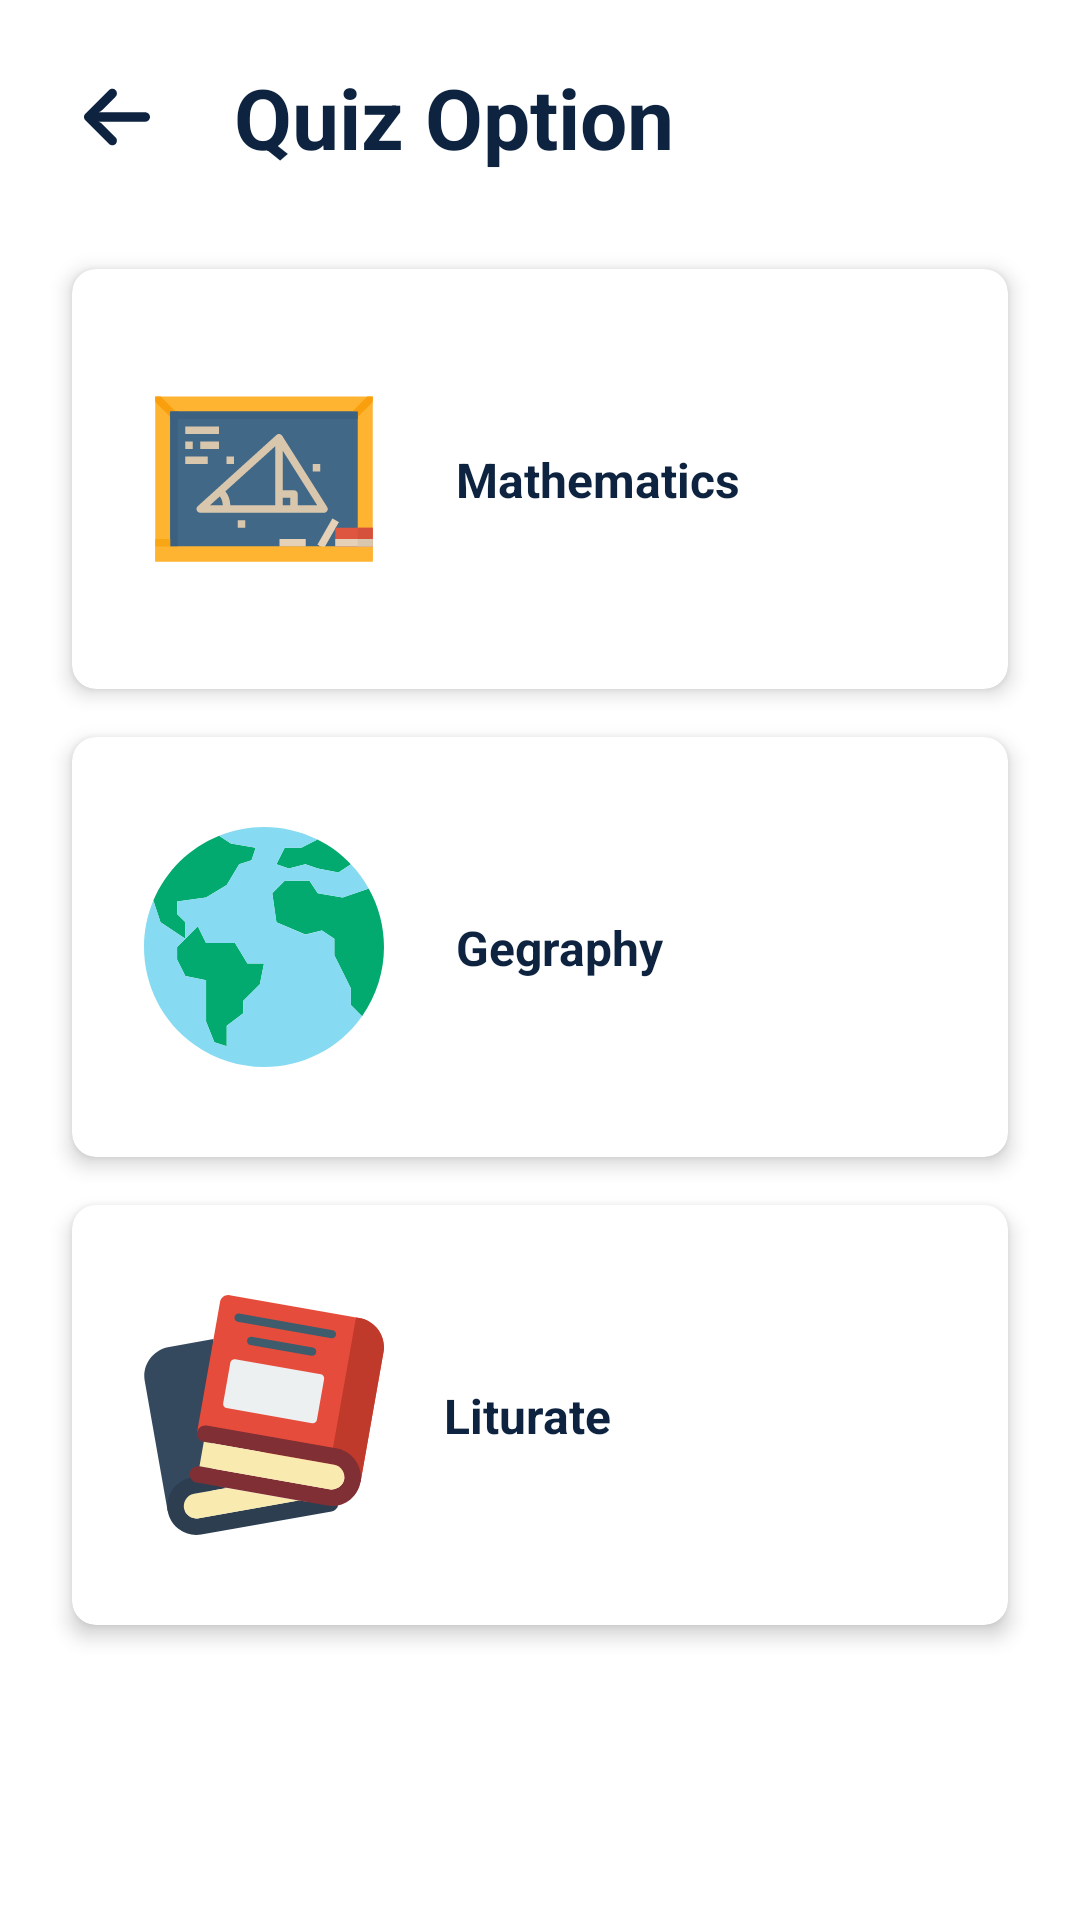

Screen size 1080 x 1920. Icon name, then its box in pixels as bbox=(x1, y1, x2, y2):
arrow: bbox=(84, 88, 150, 146)
blackboard: bbox=(155, 396, 373, 562)
book: bbox=(144, 1295, 384, 1535)
worldwide: bbox=(144, 827, 384, 1067)
